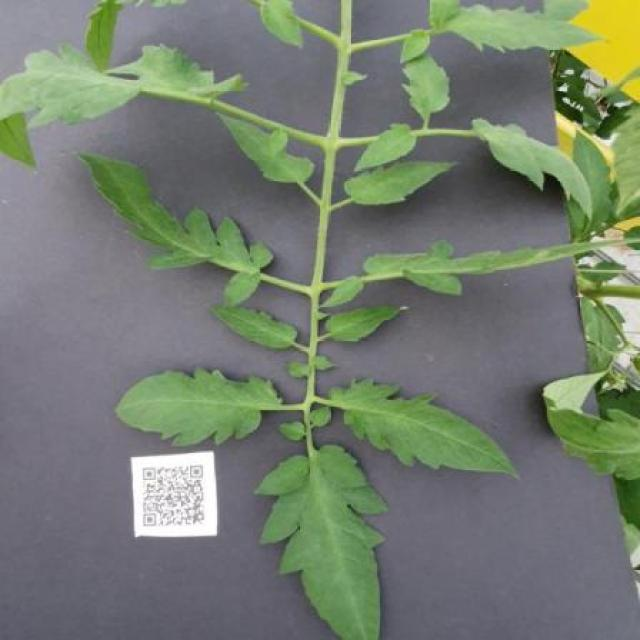Healthy: (74, 153, 274, 310), (256, 443, 388, 640), (327, 377, 520, 482), (115, 365, 282, 446), (471, 117, 593, 224), (427, 0, 602, 53), (214, 110, 314, 184), (343, 160, 458, 204), (201, 300, 298, 350), (401, 53, 453, 117), (326, 304, 408, 342)
